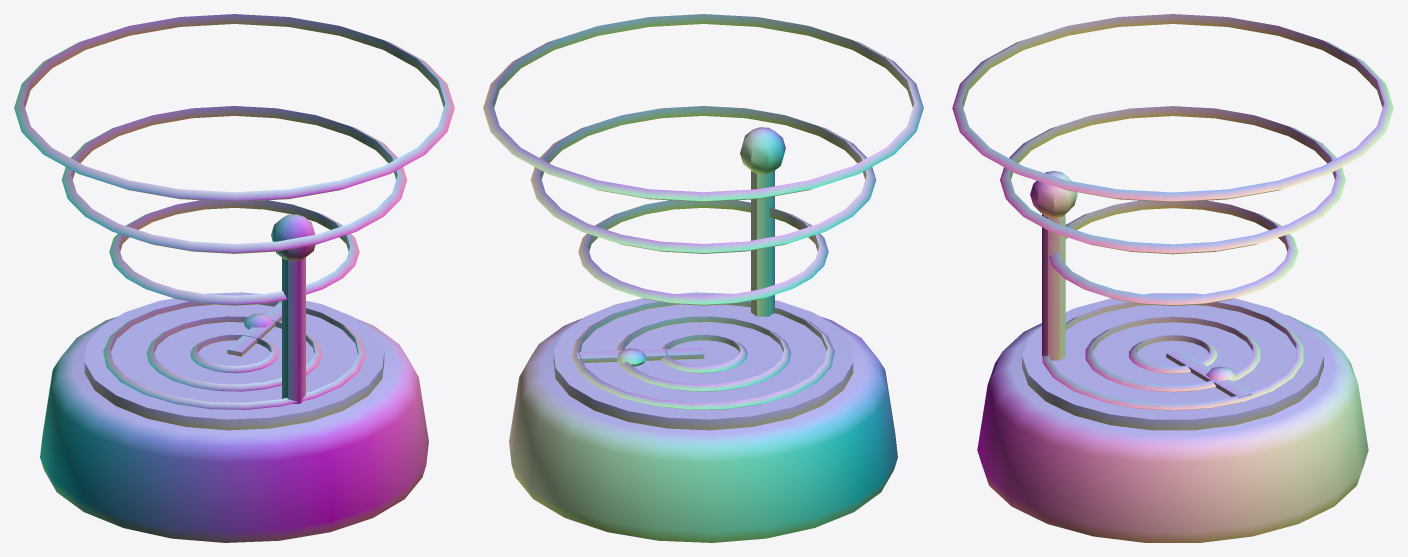
File: gad_sonar.glb
The picture shows the model from 3 angles, left to right: view 1: azimuth 30°, elevation 25°; view 2: azimuth 150°, elevation 25°; view 3: azimuth 270°, elevation 25°; orthographic projection.
Parts seen in each view (by area): view 1: sonar; view 2: sonar; view 3: sonar.
Part boxes in pixels (x1,y1,x2,y2): sonar: (14,14,454,542); sonar: (483,14,923,542); sonar: (952,14,1393,542).
Size of the model in its own units: 0.1112 by 0.1014 by 0.1112.
